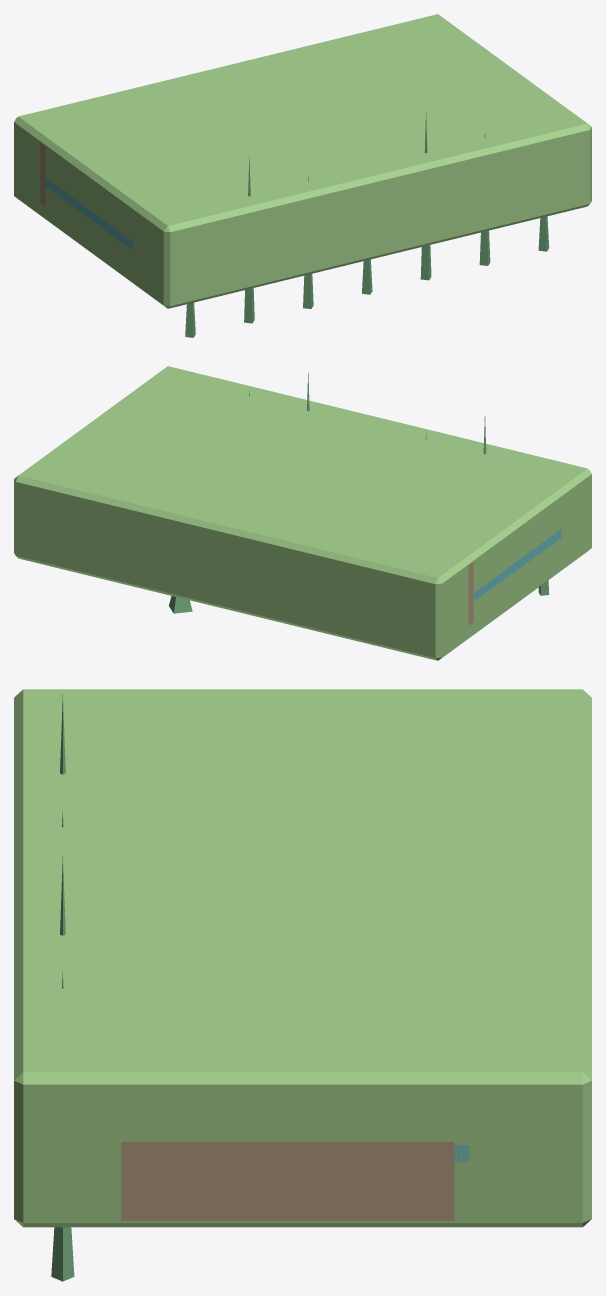
The model's file is town_river_bank_tile.glb.
3 views of the same model, one above another, from view 1: azimuth 30°, elevation 25°; view 2: azimuth 150°, elevation 25°; view 3: azimuth 270°, elevation 25° (orthographic). The views are drawn at different scales.
Visible parts, largest first — view 1: world; view 2: world; view 3: world.
Boxes of the visible parts, x1,y1,x2,y2 form: world: (14,14,591,337); world: (14,366,591,660); world: (14,689,591,1281).
Bounding box in the file's own units: 2 × 0.7498 × 1.25.
